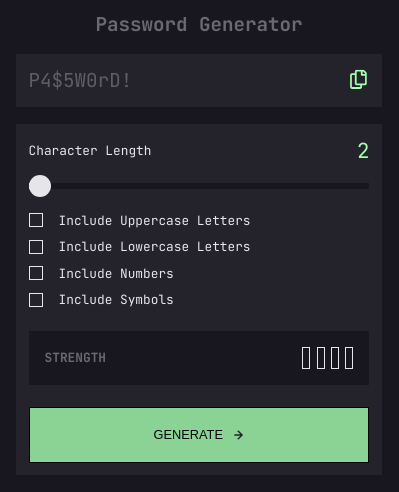
Test case: PasswordGenerator › should update password when generate is clicked
The width and height of the screenshot is (399, 492).
Expected: the text with test id "generated-password" reads "P4$5W0rD!", [29,67,132,93]
Click the checkbox with test id "includeUppercase" at (36, 220), box [29,213,43,227]
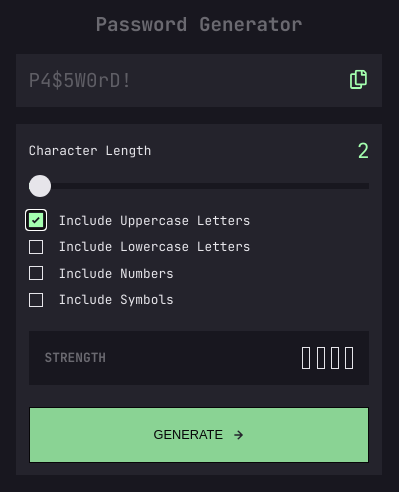
Click the button with test id "generate-button" at (199, 435), box [29,407,370,463]
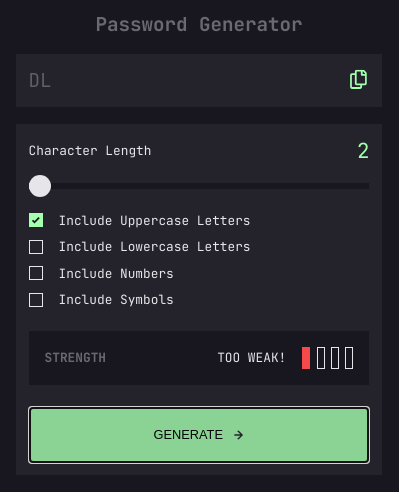
Expected: the text with test id "generated-password" no longer shows "P4$5W0rD!"
